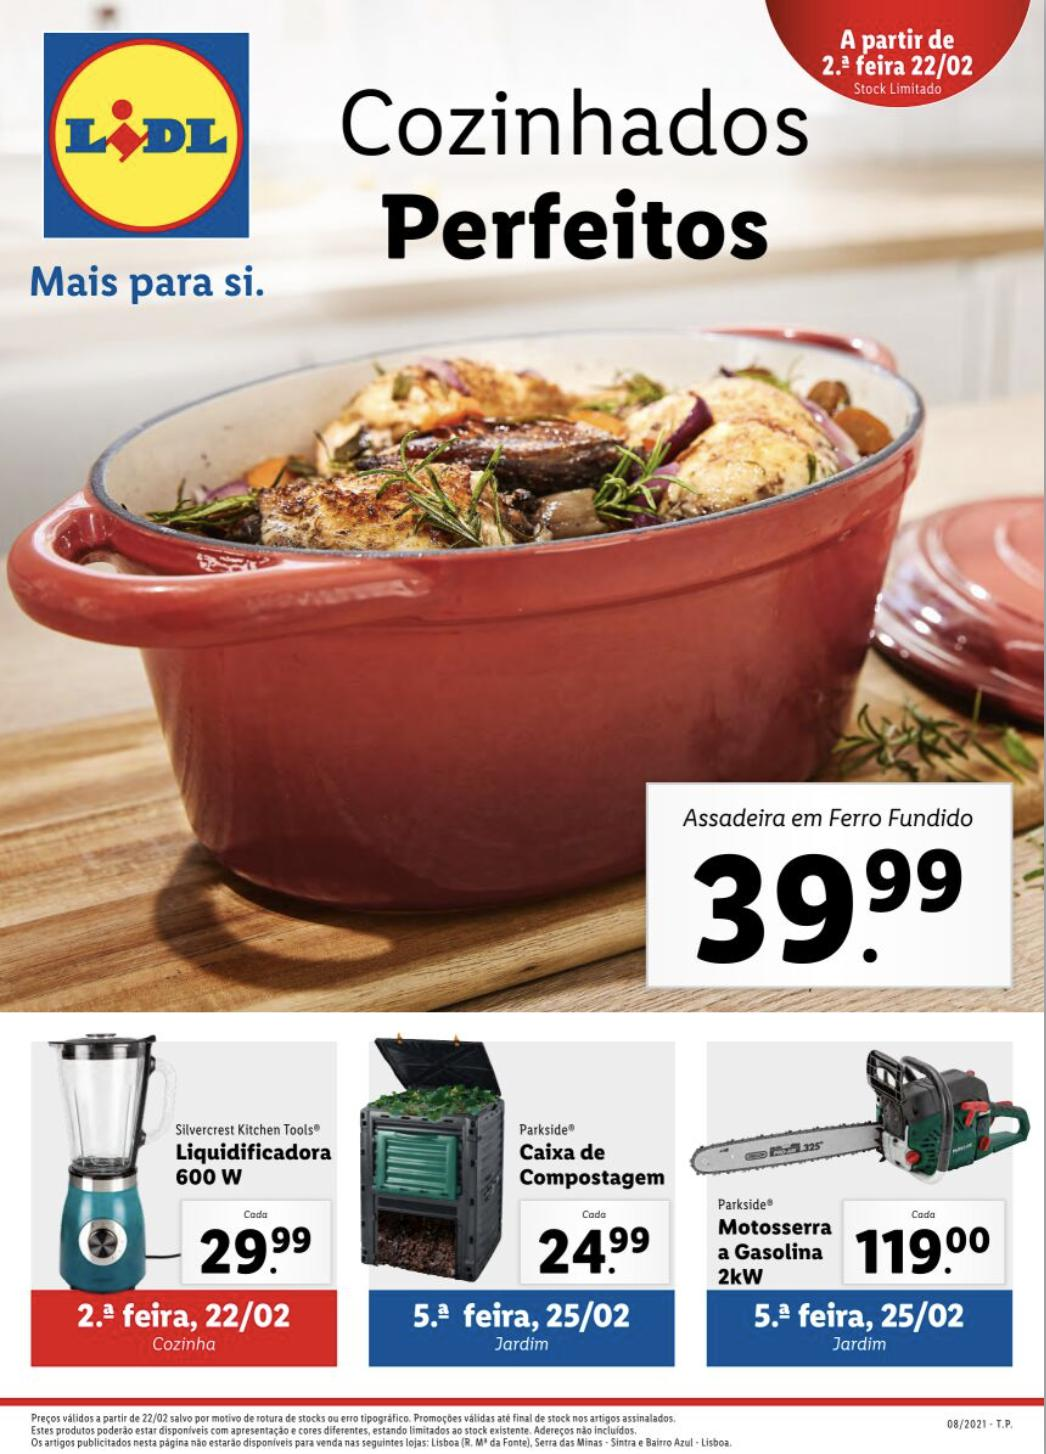name: (513, 1135, 673, 1193), (710, 1211, 835, 1286), (168, 1137, 337, 1191)
price: (697, 837, 972, 986), (855, 1224, 997, 1279), (195, 1219, 317, 1281), (530, 1219, 657, 1273)
product: (6, 317, 1035, 997), (677, 1030, 1021, 1291), (361, 1030, 677, 1290), (33, 1037, 341, 1290)
